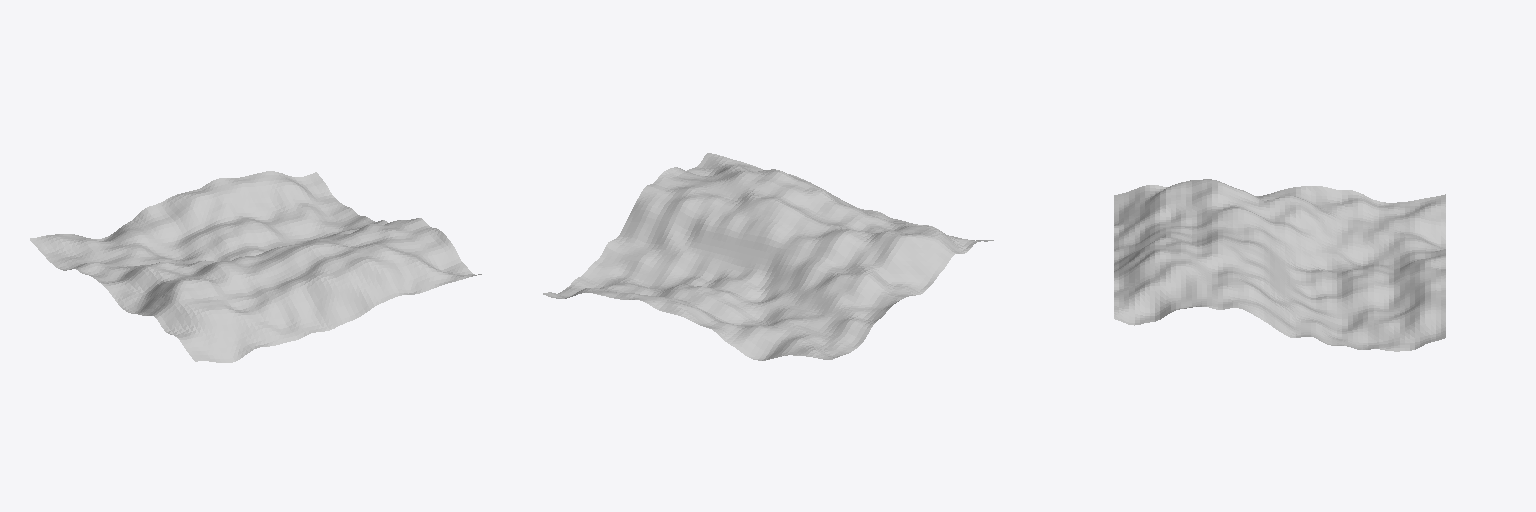
File: terrain_1.obj
3 views of the same model, side by side, from view 1: azimuth 30°, elevation 25°; view 2: azimuth 150°, elevation 25°; view 3: azimuth 270°, elevation 25° (orthographic).
Parts seen in each view (by area): view 1: Plane; view 2: Plane; view 3: Plane.
Part boxes in pixels (x1,y1,x2,y2): Plane: (30,171,481,362); Plane: (543,153,993,360); Plane: (1114,179,1445,351).
Bounding box in the file's own units: 1 × 0.1862 × 1.